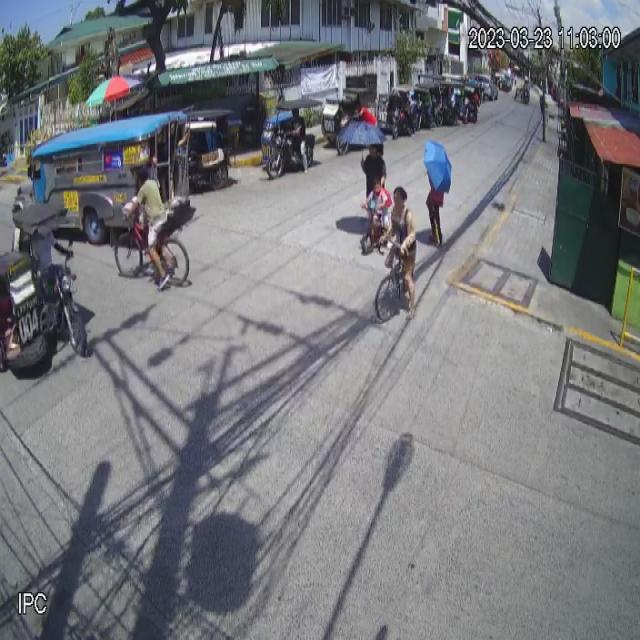Jeep: (11, 106, 189, 246)
